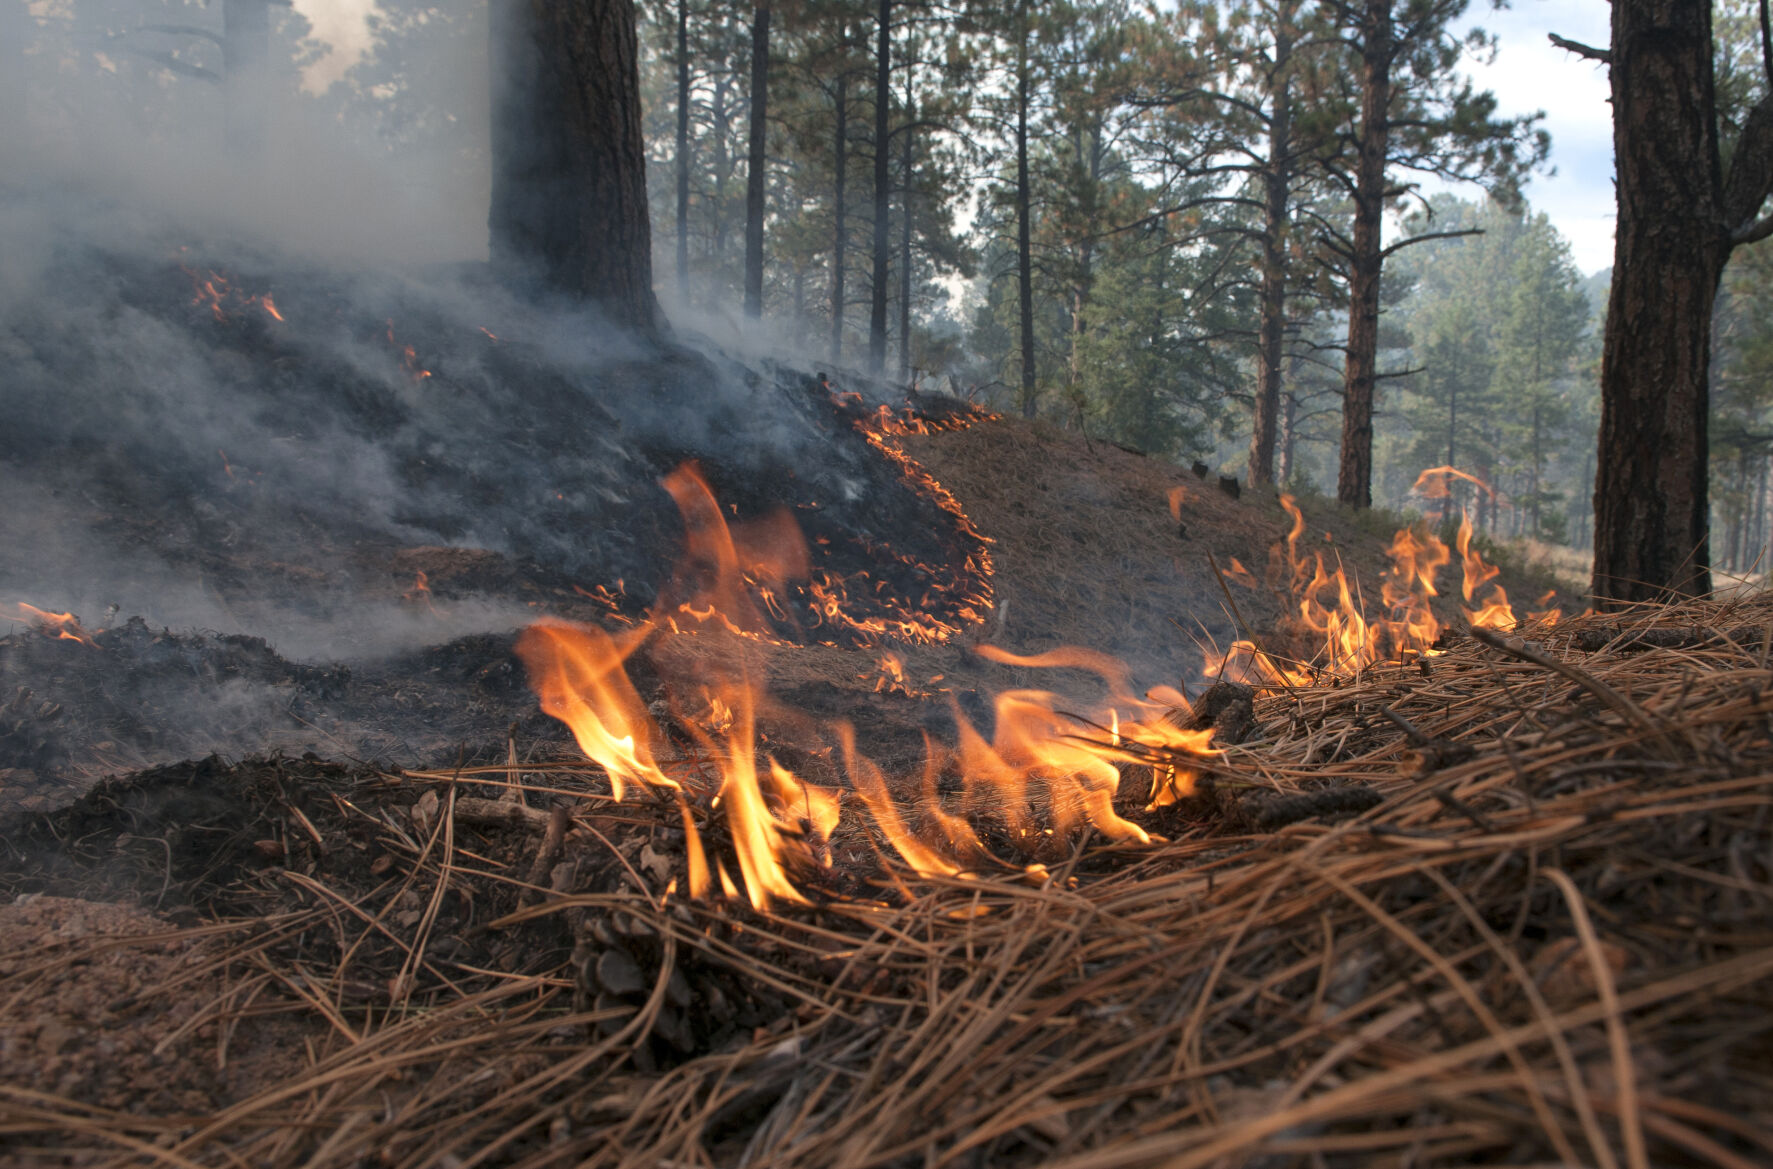fire: (562, 532, 1645, 877), (487, 301, 1068, 643), (114, 140, 531, 438)
